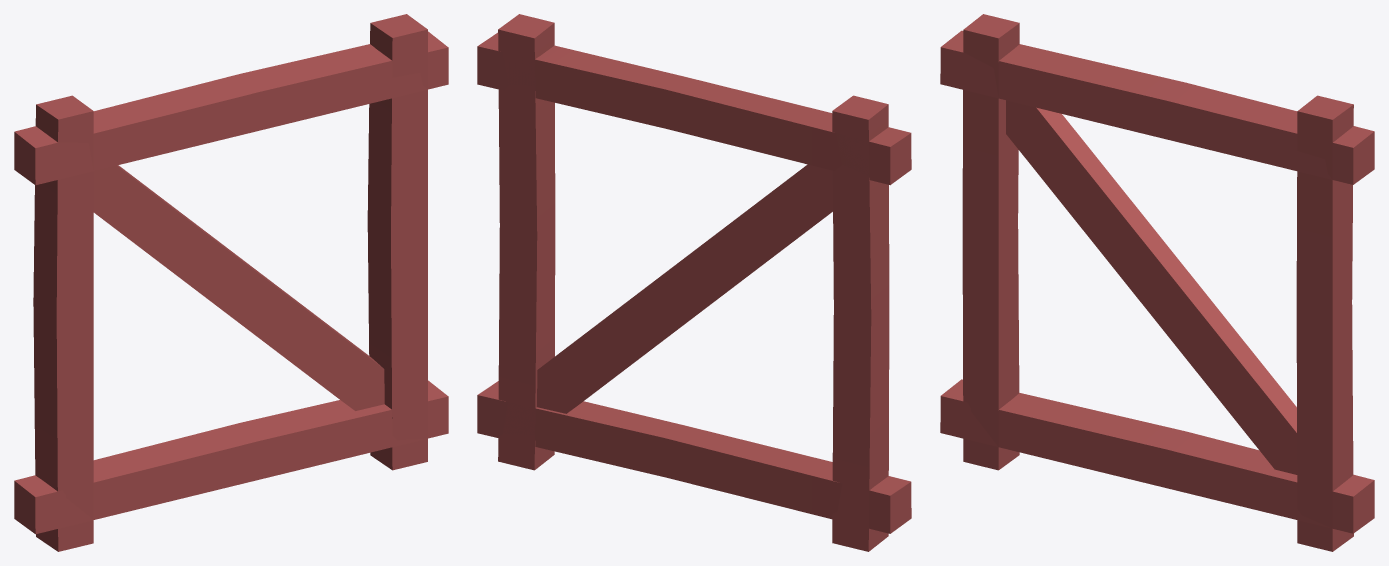
Rendered from Small_Beam_Structure_03_Lod0.fbx.
3 renders of one model, left to right at view 1: azimuth 30°, elevation 25°; view 2: azimuth 150°, elevation 25°; view 3: azimuth 330°, elevation 25°, orthographic.
Visible parts, largest first — view 1: Small_Beam_Structure_03_Lod0; view 2: Small_Beam_Structure_03_Lod0; view 3: Small_Beam_Structure_03_Lod0.
Part boxes in pixels (x1,y1,x2,y2): Small_Beam_Structure_03_Lod0: [14, 14, 448, 551]; Small_Beam_Structure_03_Lod0: [477, 14, 911, 551]; Small_Beam_Structure_03_Lod0: [940, 14, 1374, 551].
Size of the model in its own units: 52.9 by 52.9 by 4.7.
